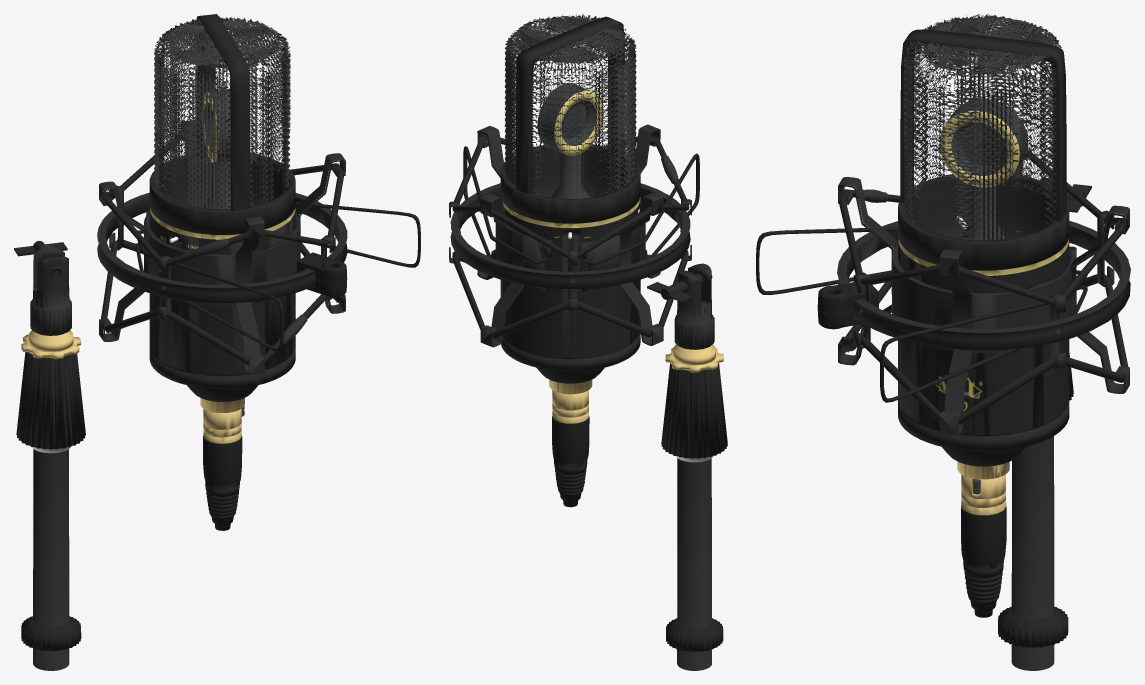
File: microfono.glb
The picture shows the model from 3 angles, left to right: view 1: azimuth 30°, elevation 25°; view 2: azimuth 150°, elevation 25°; view 3: azimuth 270°, elevation 25°; orthographic projection. The views are drawn at different scales.
Parts seen in each view (by area): view 1: mic body.001, pipe.001, spider.001, top circle.001, web.006, mic holder x.001, web.004, Cube.001, web.002, mic holder.001, web.007, stand connectin part.001 (+13 smaller); view 2: mic body.001, pipe.001, spider.001, mic holder x.001, top circle.001, Cube.001, web.004, web.003, web.002, mic head.001, stand connectin part.001, mic holder.001 (+16 smaller); view 3: mic body.001, spider.001, pipe.001, web.004, web.002, mic holder x.001, mic holder.001, Cube.001, web.006, web.003, XLR connector.001, mic head.001 (+12 smaller).
Boxes of the visible parts, <box> form: mic body.001: <box>149,153,295,401</box>; pipe.001: <box>33,449,69,670</box>; spider.001: <box>97,192,347,302</box>; top circle.001: <box>16,352,85,449</box>; web.006: <box>161,18,288,209</box>; mic holder x.001: <box>99,120,345,375</box>; web.004: <box>154,34,290,159</box>; Cube.001: <box>196,14,249,210</box>; web.002: <box>154,23,290,203</box>; mic holder.001: <box>144,210,300,305</box>; web.007: <box>157,18,290,210</box>; stand connectin part.001: <box>30,245,71,335</box>; mic body.001: <box>500,144,640,383</box>; pipe.001: <box>677,458,711,670</box>; spider.001: <box>450,183,690,288</box>; mic holder x.001: <box>477,124,663,347</box>; top circle.001: <box>661,363,727,458</box>; Cube.001: <box>515,16,625,194</box>; web.004: <box>508,31,634,151</box>; web.003: <box>504,17,629,198</box>; web.002: <box>505,24,615,198</box>; mic head.001: <box>537,83,595,198</box>; stand connectin part.001: <box>674,263,714,349</box>; mic holder.001: <box>495,201,645,291</box>; mic body.001: <box>898,174,1069,466</box>; spider.001: <box>837,221,1130,350</box>; pipe.001: <box>1011,436,1054,670</box>; web.004: <box>903,29,1056,183</box>; web.002: <box>904,18,1056,240</box>; mic holder x.001: <box>838,137,1129,435</box>; mic holder.001: <box>892,244,1076,353</box>; Cube.001: <box>900,29,1066,221</box>; web.006: <box>904,15,1040,230</box>; web.003: <box>904,14,1063,240</box>; XLR connector.001: <box>961,506,1006,617</box>; mic head.001: <box>948,98,1027,240</box>.
Bounding box in the file's own units: 0.0345 × 0.0593 × 0.0285.
14 materials, 1 textured.
